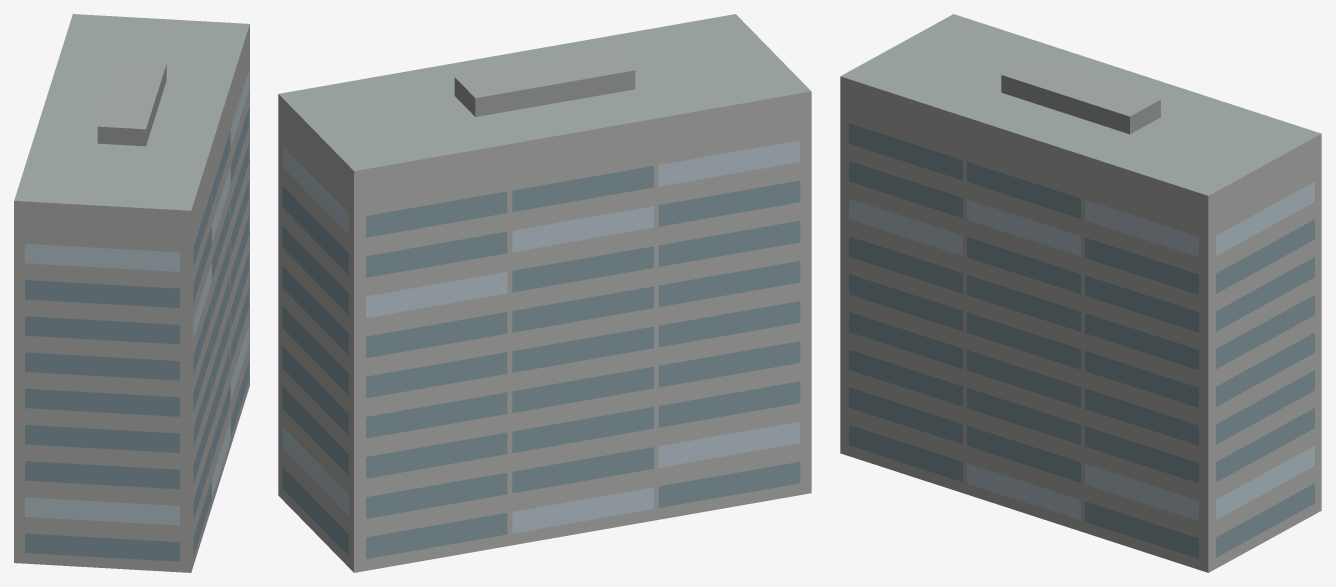
File: fallback-dmc-raemian-e-pyeonhansesang-501.glb
3 renders of one model, left to right at view 1: azimuth 30°, elevation 25°; view 2: azimuth 150°, elevation 25°; view 3: azimuth 270°, elevation 25°, orthographic. The views are drawn at different scales.
Parts seen in each view (by area): view 1: fallback-dmc-raemian-e-pyeonhansesang-501; view 2: fallback-dmc-raemian-e-pyeonhansesang-501; view 3: fallback-dmc-raemian-e-pyeonhansesang-501.
Part boxes in pixels (left/top/right/bottom): fallback-dmc-raemian-e-pyeonhansesang-501: left=14, top=14, right=249, bottom=572; fallback-dmc-raemian-e-pyeonhansesang-501: left=278, top=14, right=811, bottom=572; fallback-dmc-raemian-e-pyeonhansesang-501: left=840, top=14, right=1321, bottom=572.
Bounding box in the file's own units: 30.64 × 31 × 34.26.
